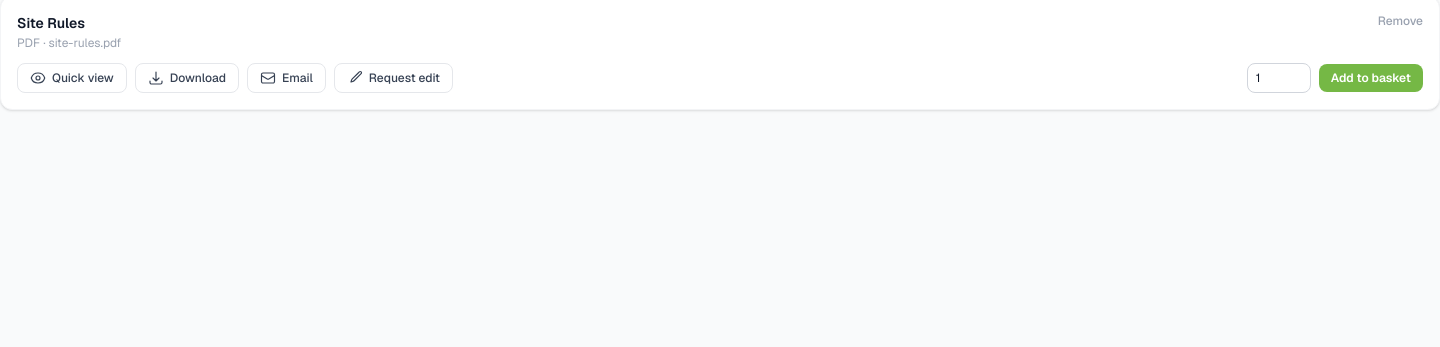
request edit › surfaces a failure instead of a false confirmation
Click the button "Request edit": click(393, 78) [334,63,453,93]
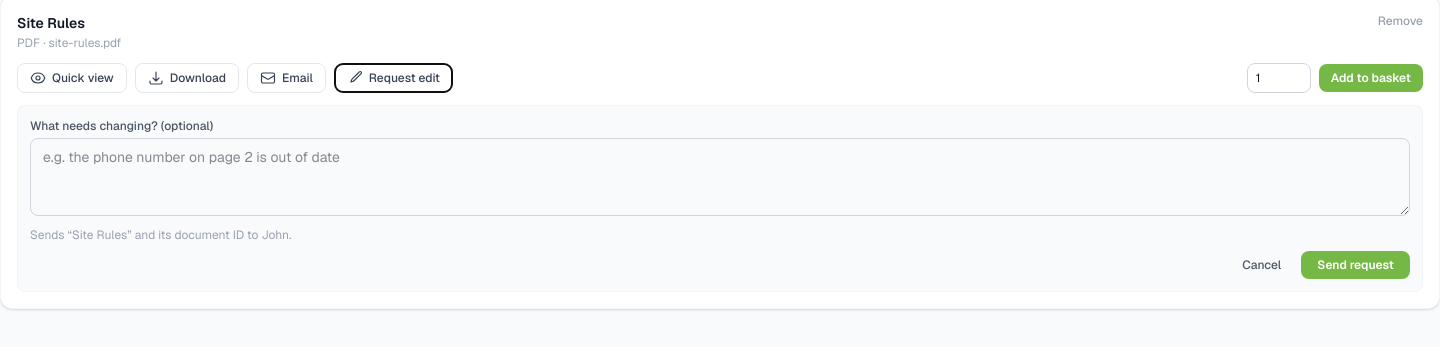
Click the button "Send request": click(1356, 265) [1301,251,1410,279]
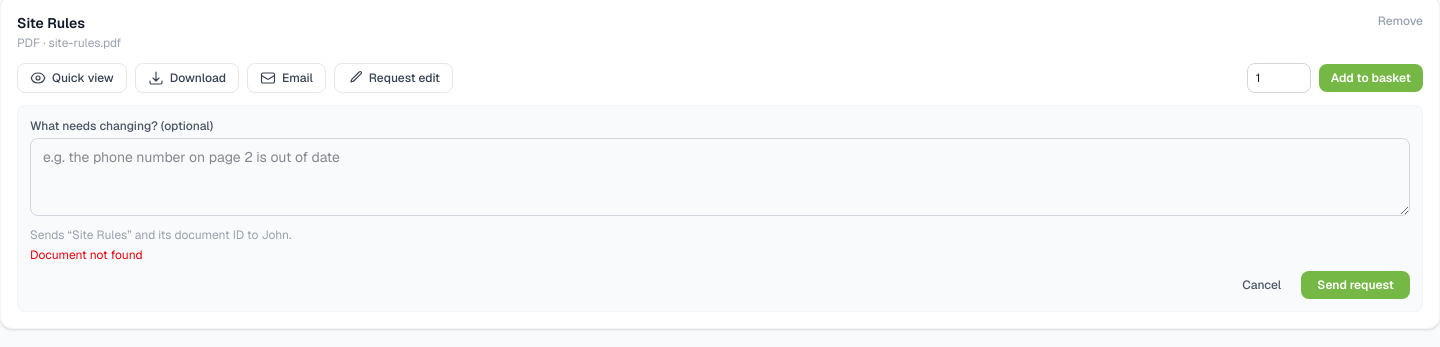
Result: the text "Document not found" is shown at [30,247,143,263]
